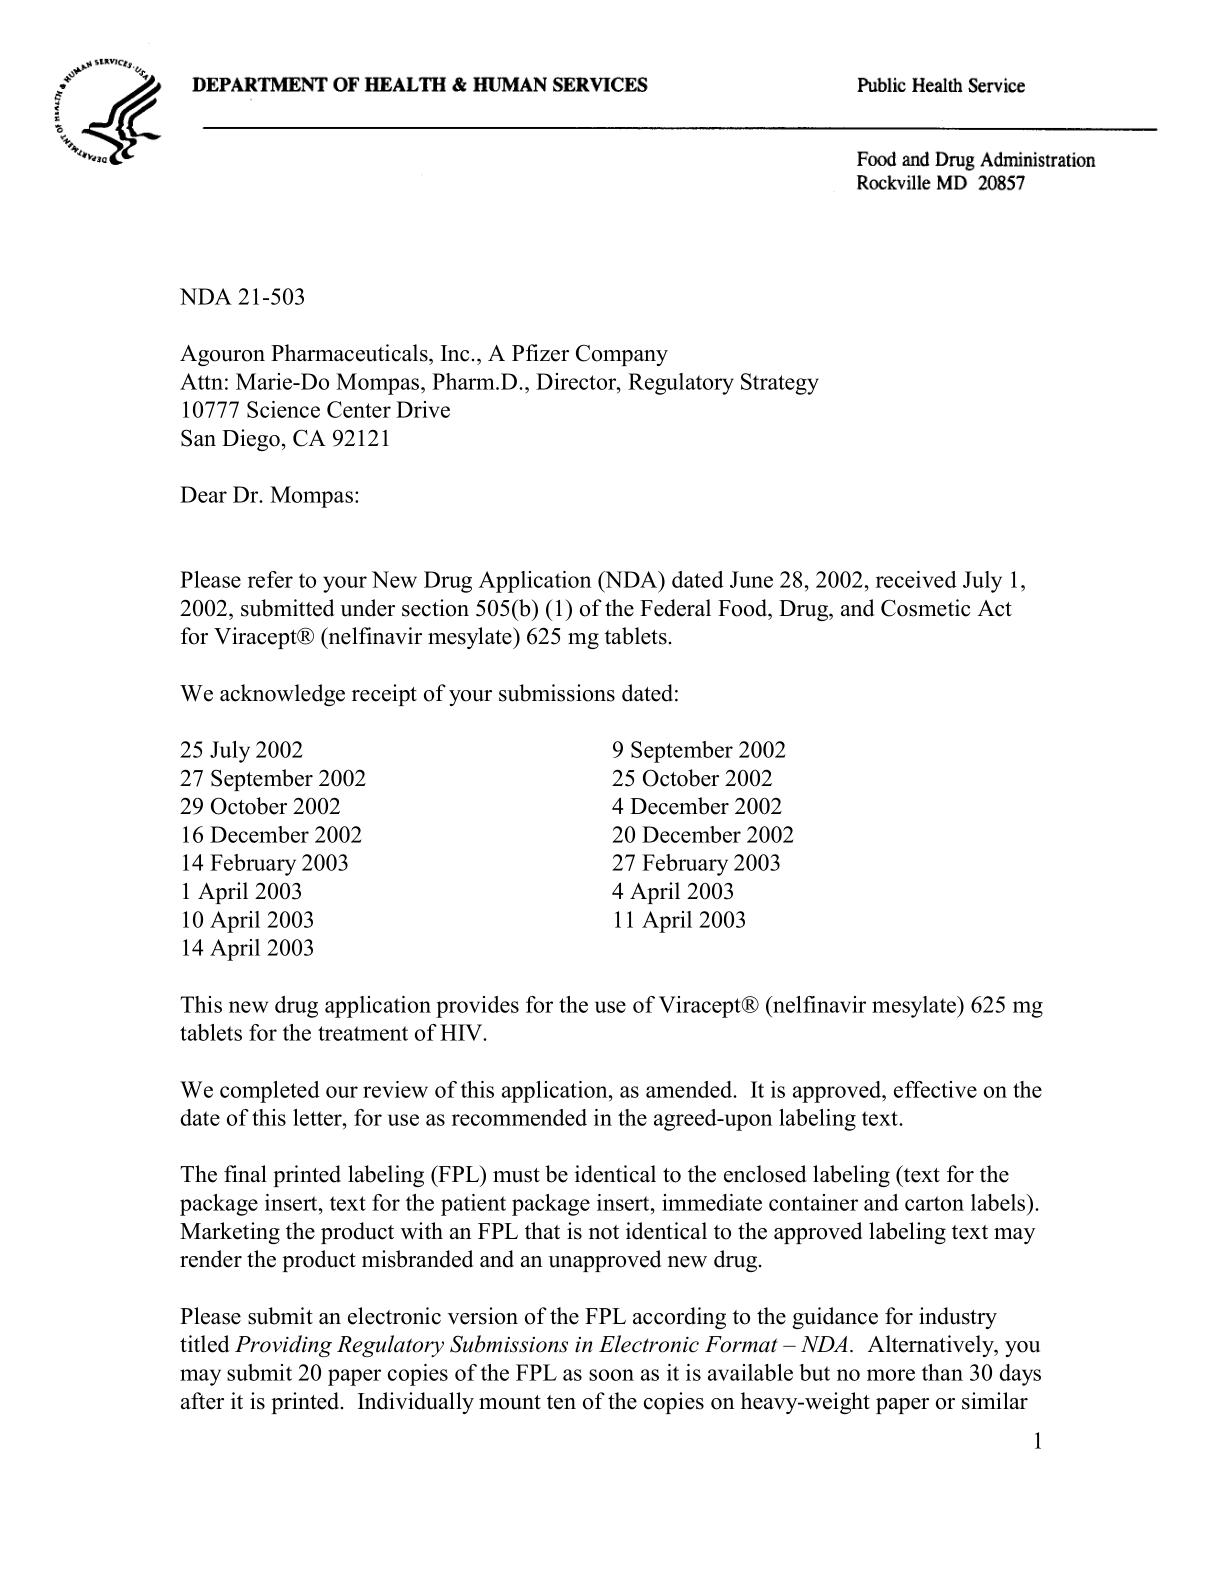nolines: (174, 732, 796, 966)
